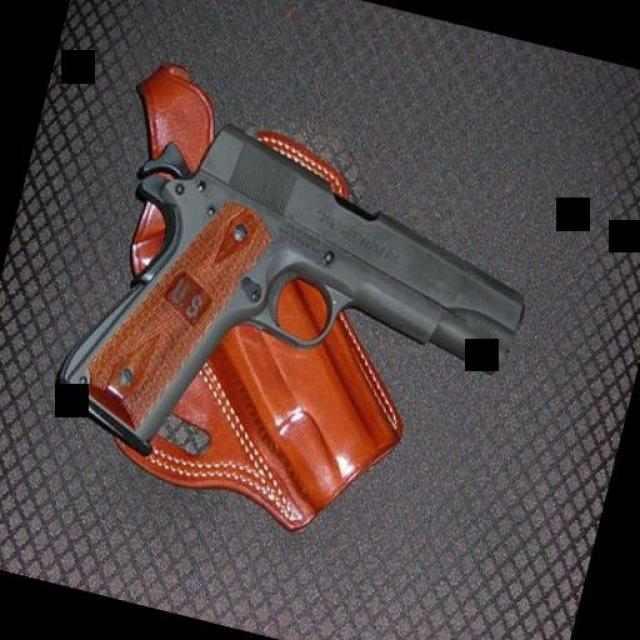gun: (37, 89, 555, 529)
